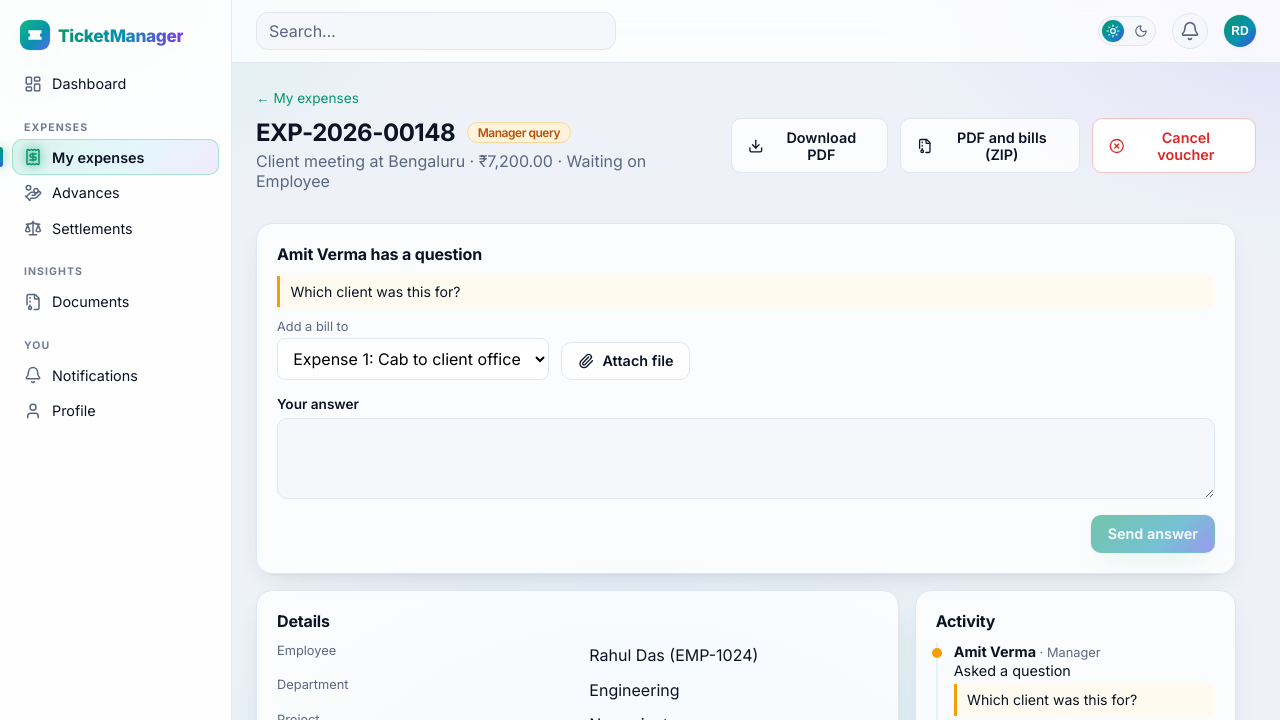
Answering a query › shows the question and sends the answer
Expected: the heading "Amit Verma has a question" is shown, [277,244,482,264]
Expected: the text "Which client was this for?" below "has a question" is shown, [290,283,461,300]
Type "Acme Ltd" into the text box labelled "Your answer" at (746, 458), box [277,418,1215,499]
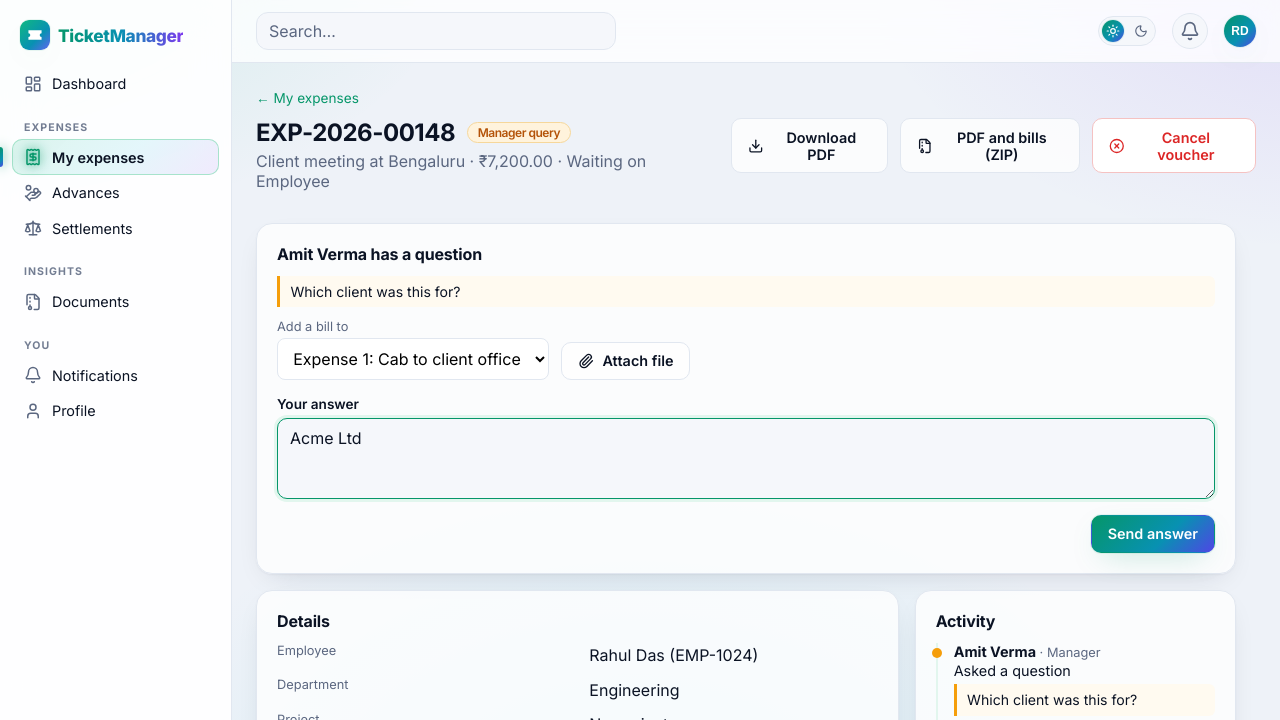
Click the button "Send answer" at (1153, 534), box [1091,515,1215,553]
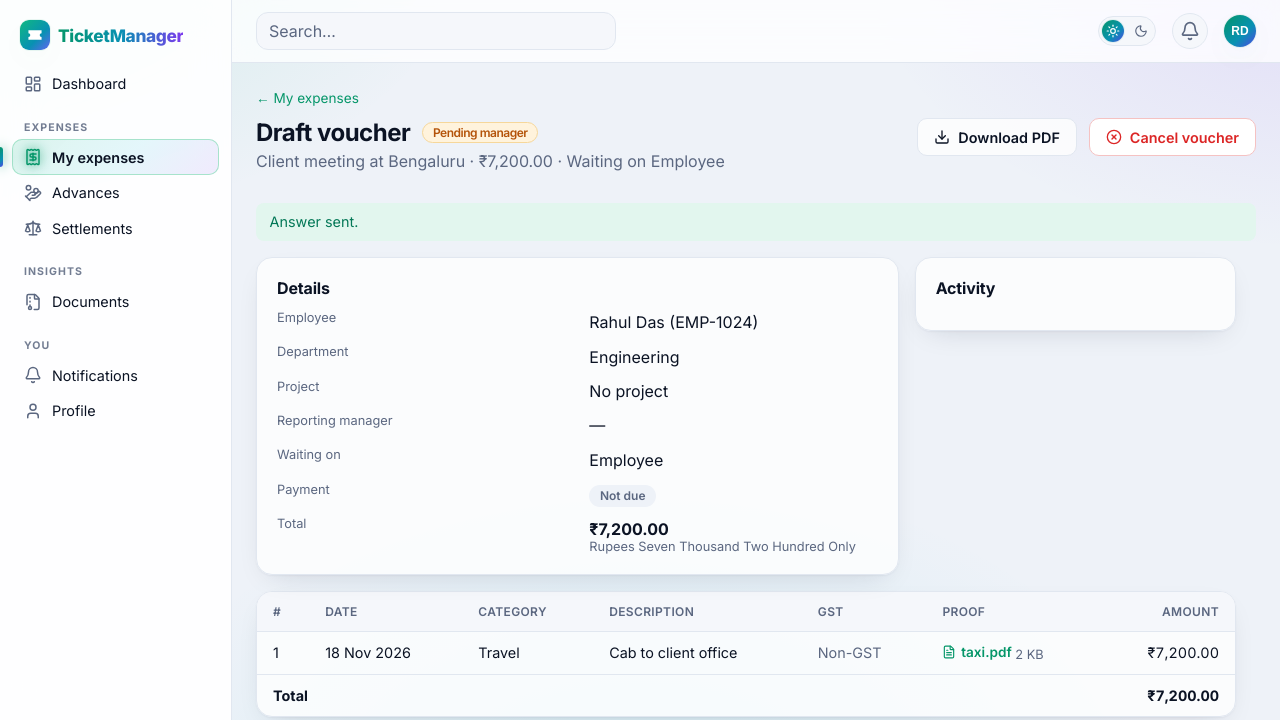
Result: the text "Answer sent." is shown at [256,203,1256,241]
